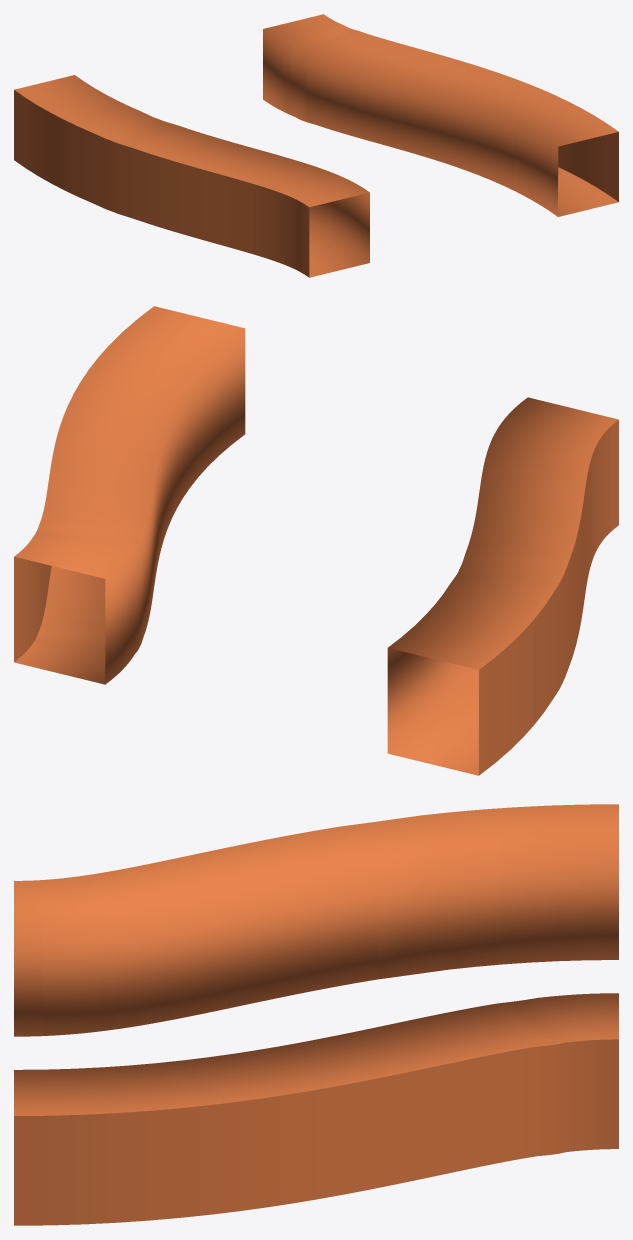
The model's file is CantMediumLeftSand.fbx.
The picture shows the model from 3 angles, top to bottom: view 1: azimuth 30°, elevation 25°; view 2: azimuth 150°, elevation 25°; view 3: azimuth 270°, elevation 25°; orthographic projection. The views are drawn at different scales.
Visible parts, largest first — view 1: ModularTrackCantMediumLeft.003, ModularTrackCantMediumLeft.004, ModularTrackCantMediumLeft.002, ModularTrackCantMediumLeft.008, ModularTrackCantMediumLeft.009, ModularTrackCantMediumLeft.010, ModularTrackCantMediumLeft.007, ModularTrackCantMediumLeft.005, ModularTrackCantMediumLeft.012, ModularTrackCantMediumLeft.011, ModularTrackCantMediumLeft.006, ModularTrackCantMediumLeft.013; view 2: ModularTrackCantMediumLeft.007, ModularTrackCantMediumLeft.003, ModularTrackCantMediumLeft.008, ModularTrackCantMediumLeft.004, ModularTrackCantMediumLeft.002, ModularTrackCantMediumLeft.005, ModularTrackCantMediumLeft.006, ModularTrackCantMediumLeft.009, ModularTrackCantMediumLeft.010, ModularTrackCantMediumLeft.012, ModularTrackCantMediumLeft.011, ModularTrackCantMediumLeft.013; view 3: ModularTrackCantMediumLeft.003, ModularTrackCantMediumLeft.004, ModularTrackCantMediumLeft.002, ModularTrackCantMediumLeft.008, ModularTrackCantMediumLeft.007, ModularTrackCantMediumLeft.009, ModularTrackCantMediumLeft.010, ModularTrackCantMediumLeft.005, ModularTrackCantMediumLeft.011, ModularTrackCantMediumLeft.012, ModularTrackCantMediumLeft.006, ModularTrackCantMediumLeft.013.
Part boxes in pixels (x1,y1,x2,y2): ModularTrackCantMediumLeft.003: (420, 61, 568, 190); ModularTrackCantMediumLeft.004: (330, 35, 459, 155); ModularTrackCantMediumLeft.002: (515, 101, 618, 216); ModularTrackCantMediumLeft.008: (64, 101, 176, 218); ModularTrackCantMediumLeft.009: (133, 125, 234, 237); ModularTrackCantMediumLeft.010: (196, 143, 293, 254); ModularTrackCantMediumLeft.007: (14, 75, 117, 190); ModularTrackCantMediumLeft.005: (283, 22, 371, 129); ModularTrackCantMediumLeft.012: (284, 172, 360, 273); ModularTrackCantMediumLeft.011: (253, 160, 331, 264); ModularTrackCantMediumLeft.006: (263, 14, 335, 111); ModularTrackCantMediumLeft.013: (303, 186, 369, 277); ModularTrackCantMediumLeft.007: (387, 604, 533, 775); ModularTrackCantMediumLeft.003: (54, 356, 198, 555); ModularTrackCantMediumLeft.008: (435, 553, 569, 724); ModularTrackCantMediumLeft.004: (42, 446, 159, 624); ModularTrackCantMediumLeft.002: (99, 306, 245, 476); ModularTrackCantMediumLeft.005: (28, 514, 147, 663); ModularTrackCantMediumLeft.006: (14, 543, 127, 684); ModularTrackCantMediumLeft.009: (465, 508, 581, 665); ModularTrackCantMediumLeft.010: (477, 463, 588, 615); ModularTrackCantMediumLeft.012: (495, 407, 610, 548); ModularTrackCantMediumLeft.011: (484, 433, 597, 571); ModularTrackCantMediumLeft.013: (515, 397, 618, 531); ModularTrackCantMediumLeft.003: (130, 1039, 363, 1220); ModularTrackCantMediumLeft.004: (318, 1008, 513, 1190); ModularTrackCantMediumLeft.002: (14, 1065, 149, 1225); ModularTrackCantMediumLeft.008: (340, 809, 502, 979); ModularTrackCantMediumLeft.007: (483, 804, 618, 964); ModularTrackCantMediumLeft.009: (229, 826, 377, 998); ModularTrackCantMediumLeft.010: (132, 847, 276, 1018); ModularTrackCantMediumLeft.005: (470, 995, 583, 1159); ModularTrackCantMediumLeft.011: (76, 867, 177, 1030); ModularTrackCantMediumLeft.012: (32, 876, 107, 1035); ModularTrackCantMediumLeft.006: (564, 993, 618, 1150); ModularTrackCantMediumLeft.013: (14, 880, 42, 1036).
Bounding box in the file's own units: 1220 × 201 × 1000.
